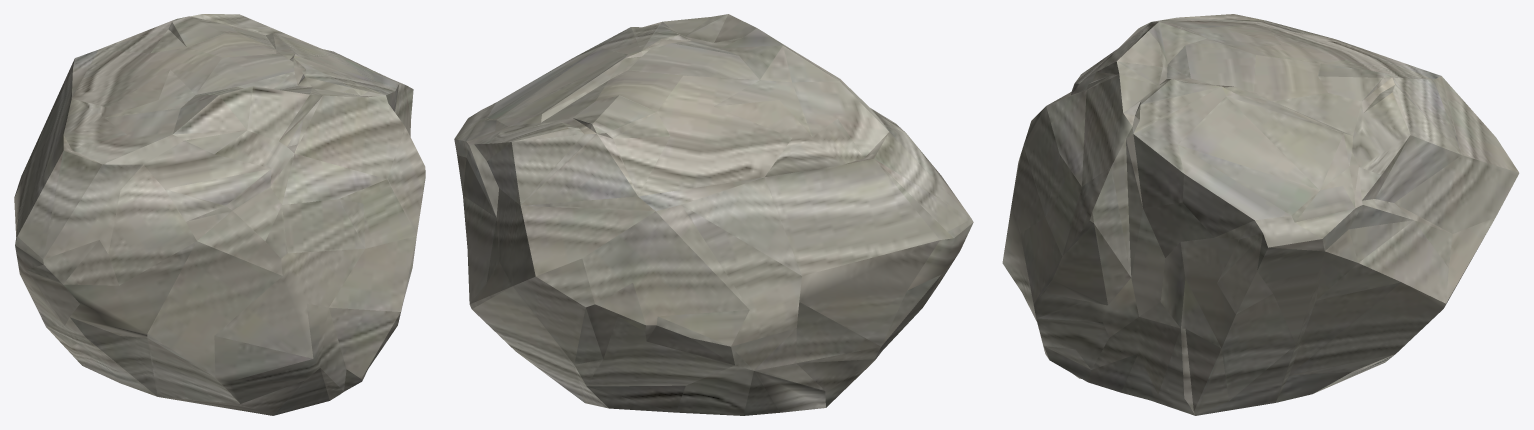
File: rock_2.glb
3 views of the same model, side by side, from view 1: azimuth 30°, elevation 25°; view 2: azimuth 150°, elevation 25°; view 3: azimuth 270°, elevation 25° (orthographic). The views are drawn at different scales.
Size of the model in its own units: 1.89 by 1.27 by 1.85.
Materials: 1 (1 with a texture image).
